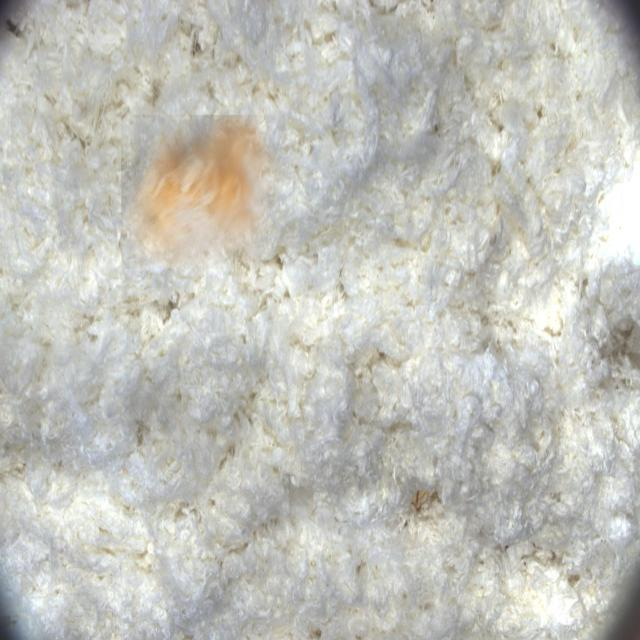dust: (121, 115, 275, 269)
